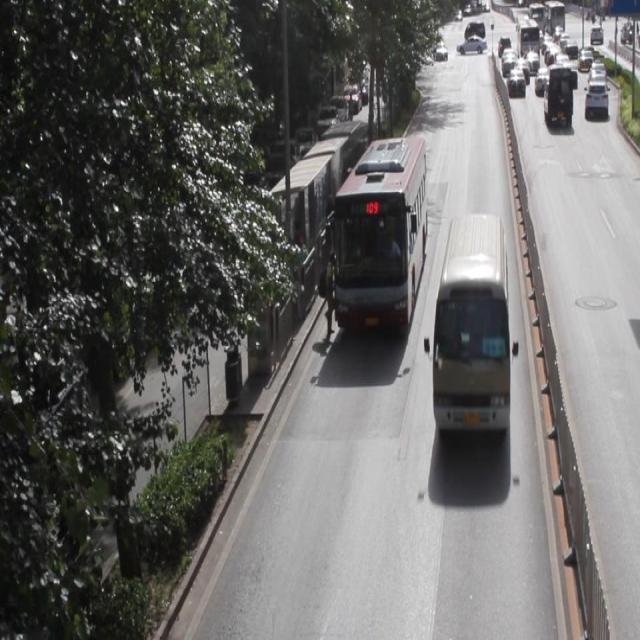truck: (432, 212, 509, 427)
van: (334, 134, 425, 326)
